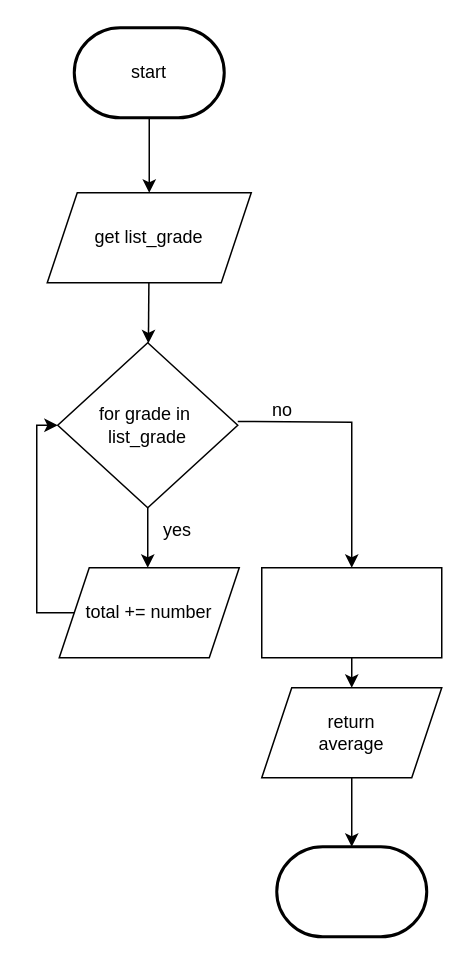
Image size: 468x963. Some labels were removed from this diagram. Each missing label, with the centre of its shape:
"average = total / (list_grade)" goes at point 351,612.
"Stop" goes at point 351,891.
